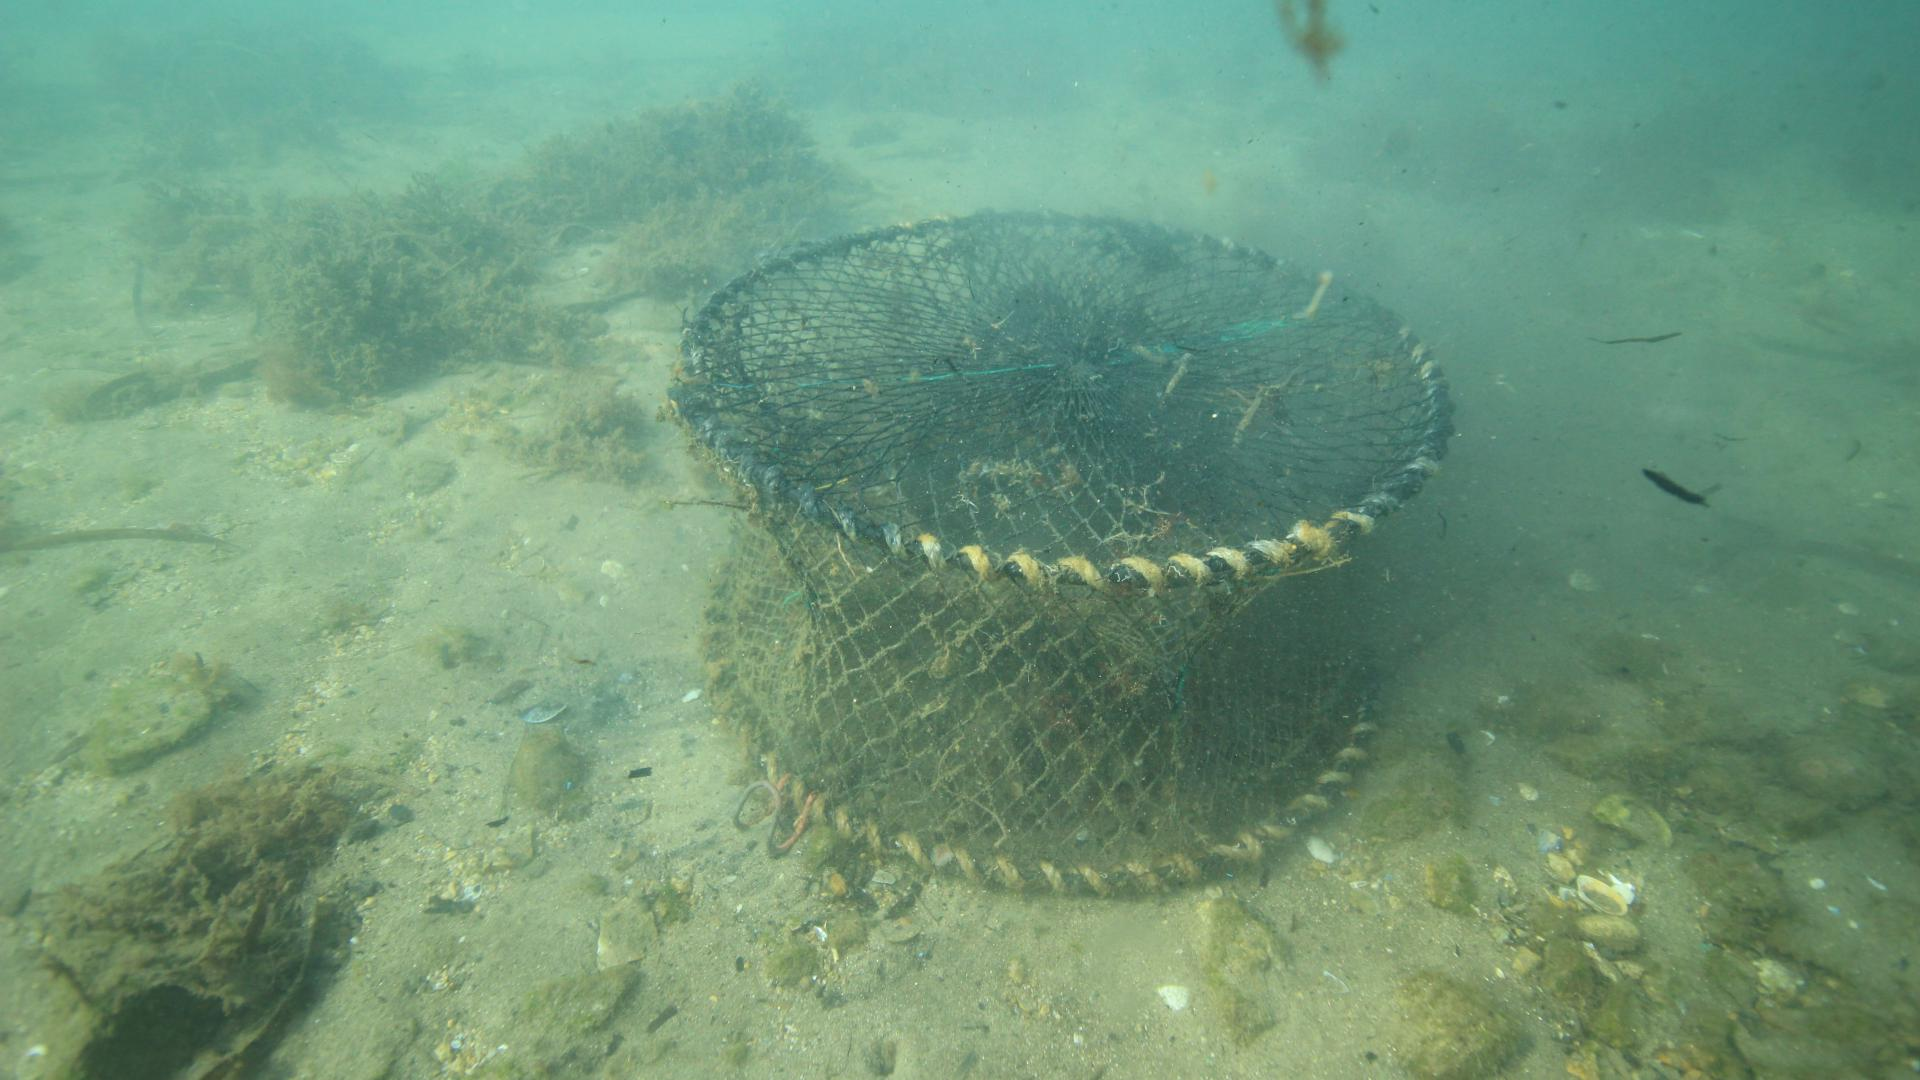circular fish trap: (666, 207, 1457, 897)
